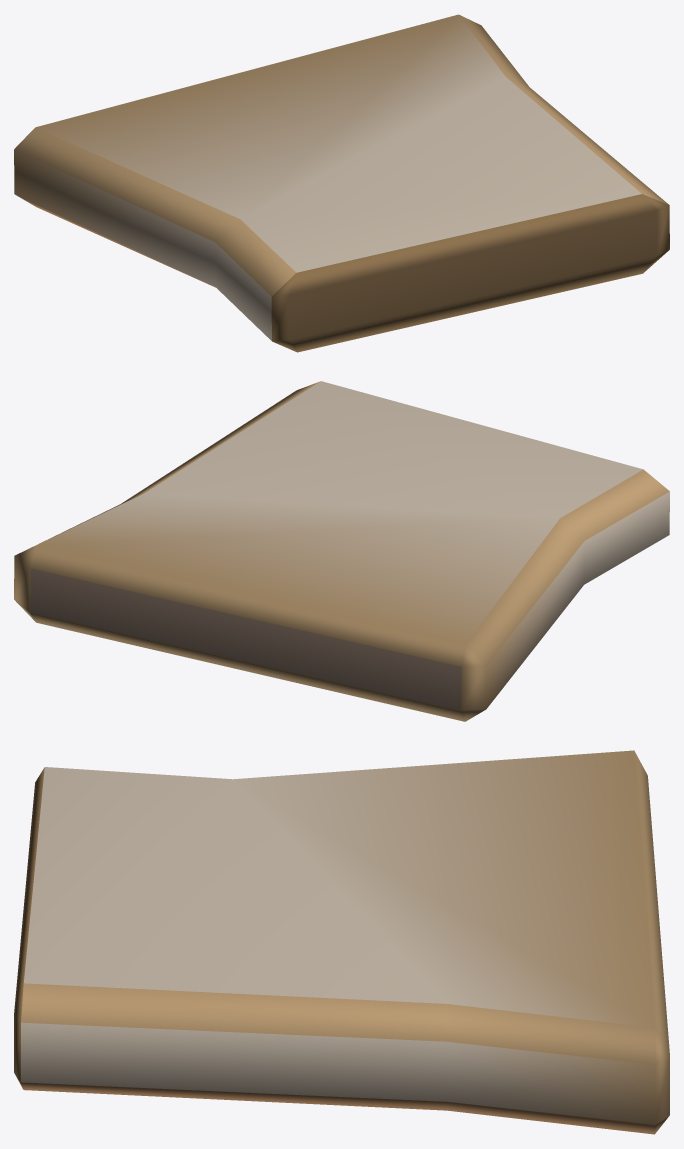
The model's file is body.fbx.
3 views of the same model, one above another, from view 1: azimuth 30°, elevation 25°; view 2: azimuth 150°, elevation 25°; view 3: azimuth 270°, elevation 25° (orthographic). The views are drawn at different scales.
Parts seen in each view (by area): view 1: body; view 2: body; view 3: body.
Part boxes in pixels (left/top/right/bottom): body: left=14, top=14, right=669, bottom=352; body: left=14, top=381, right=669, bottom=721; body: left=14, top=750, right=669, bottom=1134.
Bounding box in the file's own units: 56.57 × 10.11 × 50.75.
